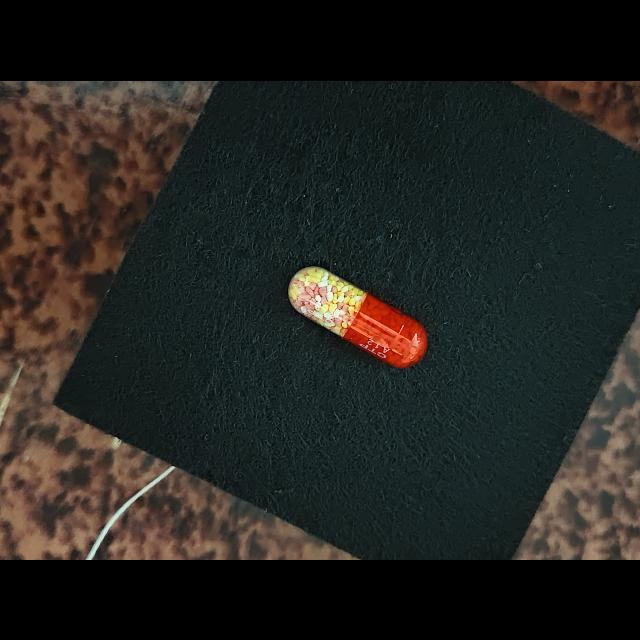Intact Capsule: (288, 266, 427, 368)
